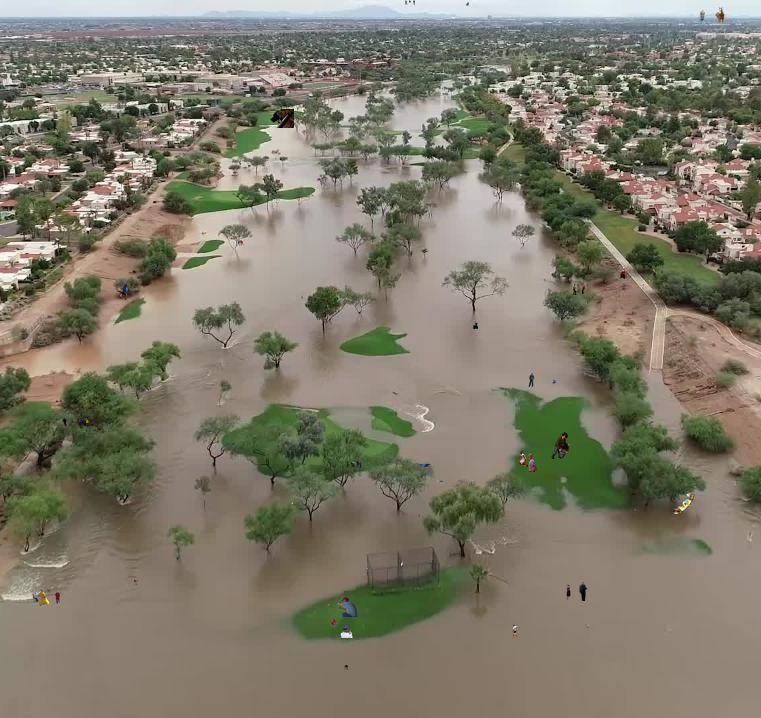Human: (619, 267, 664, 279), (550, 432, 570, 459), (32, 587, 60, 606), (672, 491, 695, 514), (561, 582, 588, 601), (416, 463, 443, 482), (353, 57, 394, 69), (698, 7, 725, 24), (62, 412, 89, 429), (270, 109, 294, 128), (331, 618, 353, 638), (337, 597, 359, 617), (517, 451, 537, 472), (528, 373, 556, 387), (117, 282, 128, 300), (573, 283, 585, 295), (347, 460, 362, 469), (512, 624, 521, 637), (467, 321, 478, 329), (405, 0, 415, 5), (489, 109, 496, 116), (237, 240, 244, 246), (134, 577, 138, 585), (344, 665, 348, 670), (301, 296, 306, 300), (466, 2, 469, 6), (647, 280, 651, 283), (291, 502, 293, 507)
